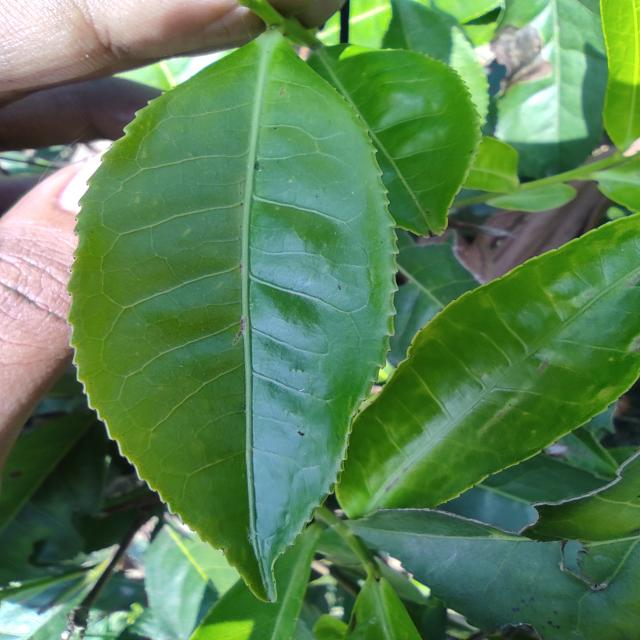Category C(4-7 days): (48, 13, 434, 601)
